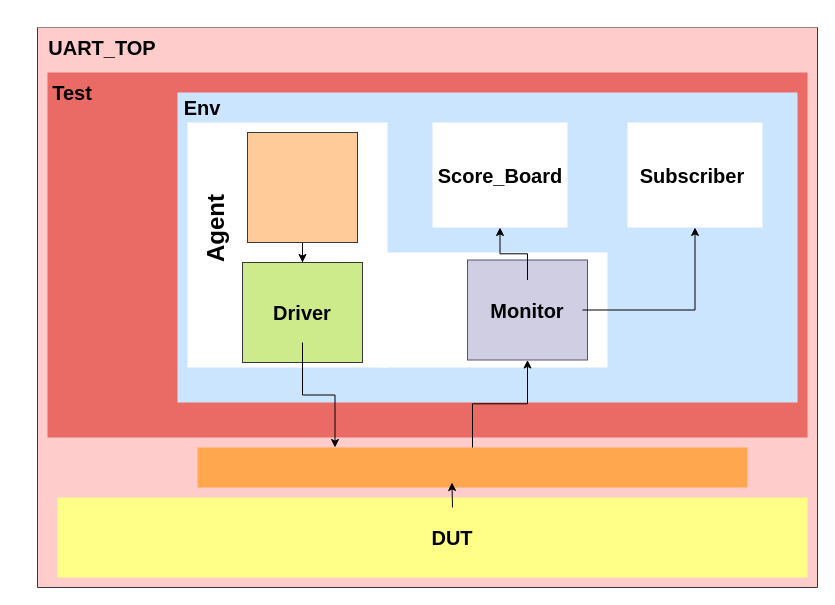
Some shapes in this 835 by 605 pixel diagram are drawn without their labels. Each missing label, with the centre of its shape:
"Interface" belongs at (472,467).
"Sequencer" belongs at (302,187).
